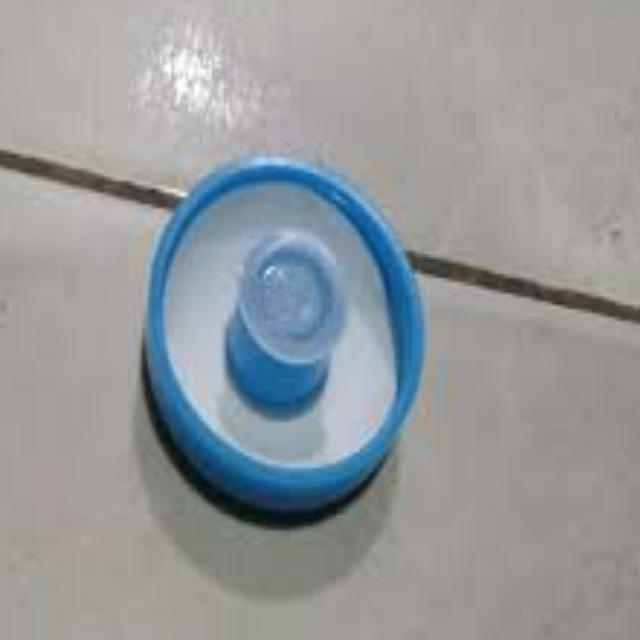TutupGalon: (140, 151, 427, 524)
